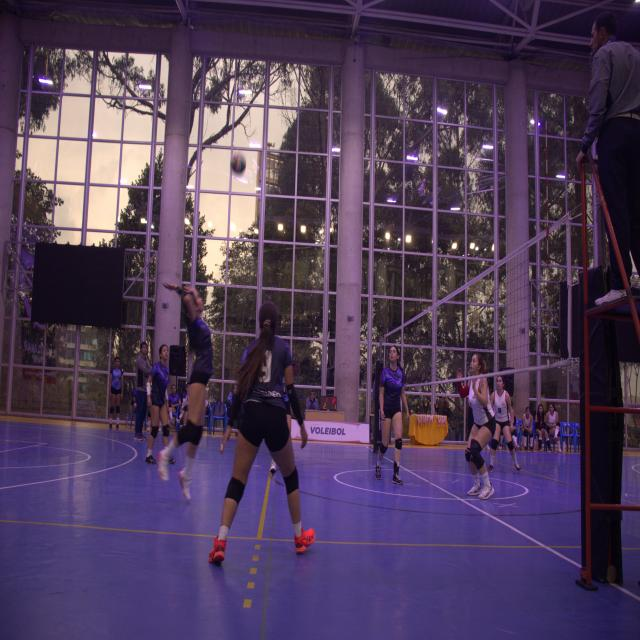volleyball: (230, 152, 246, 173)
